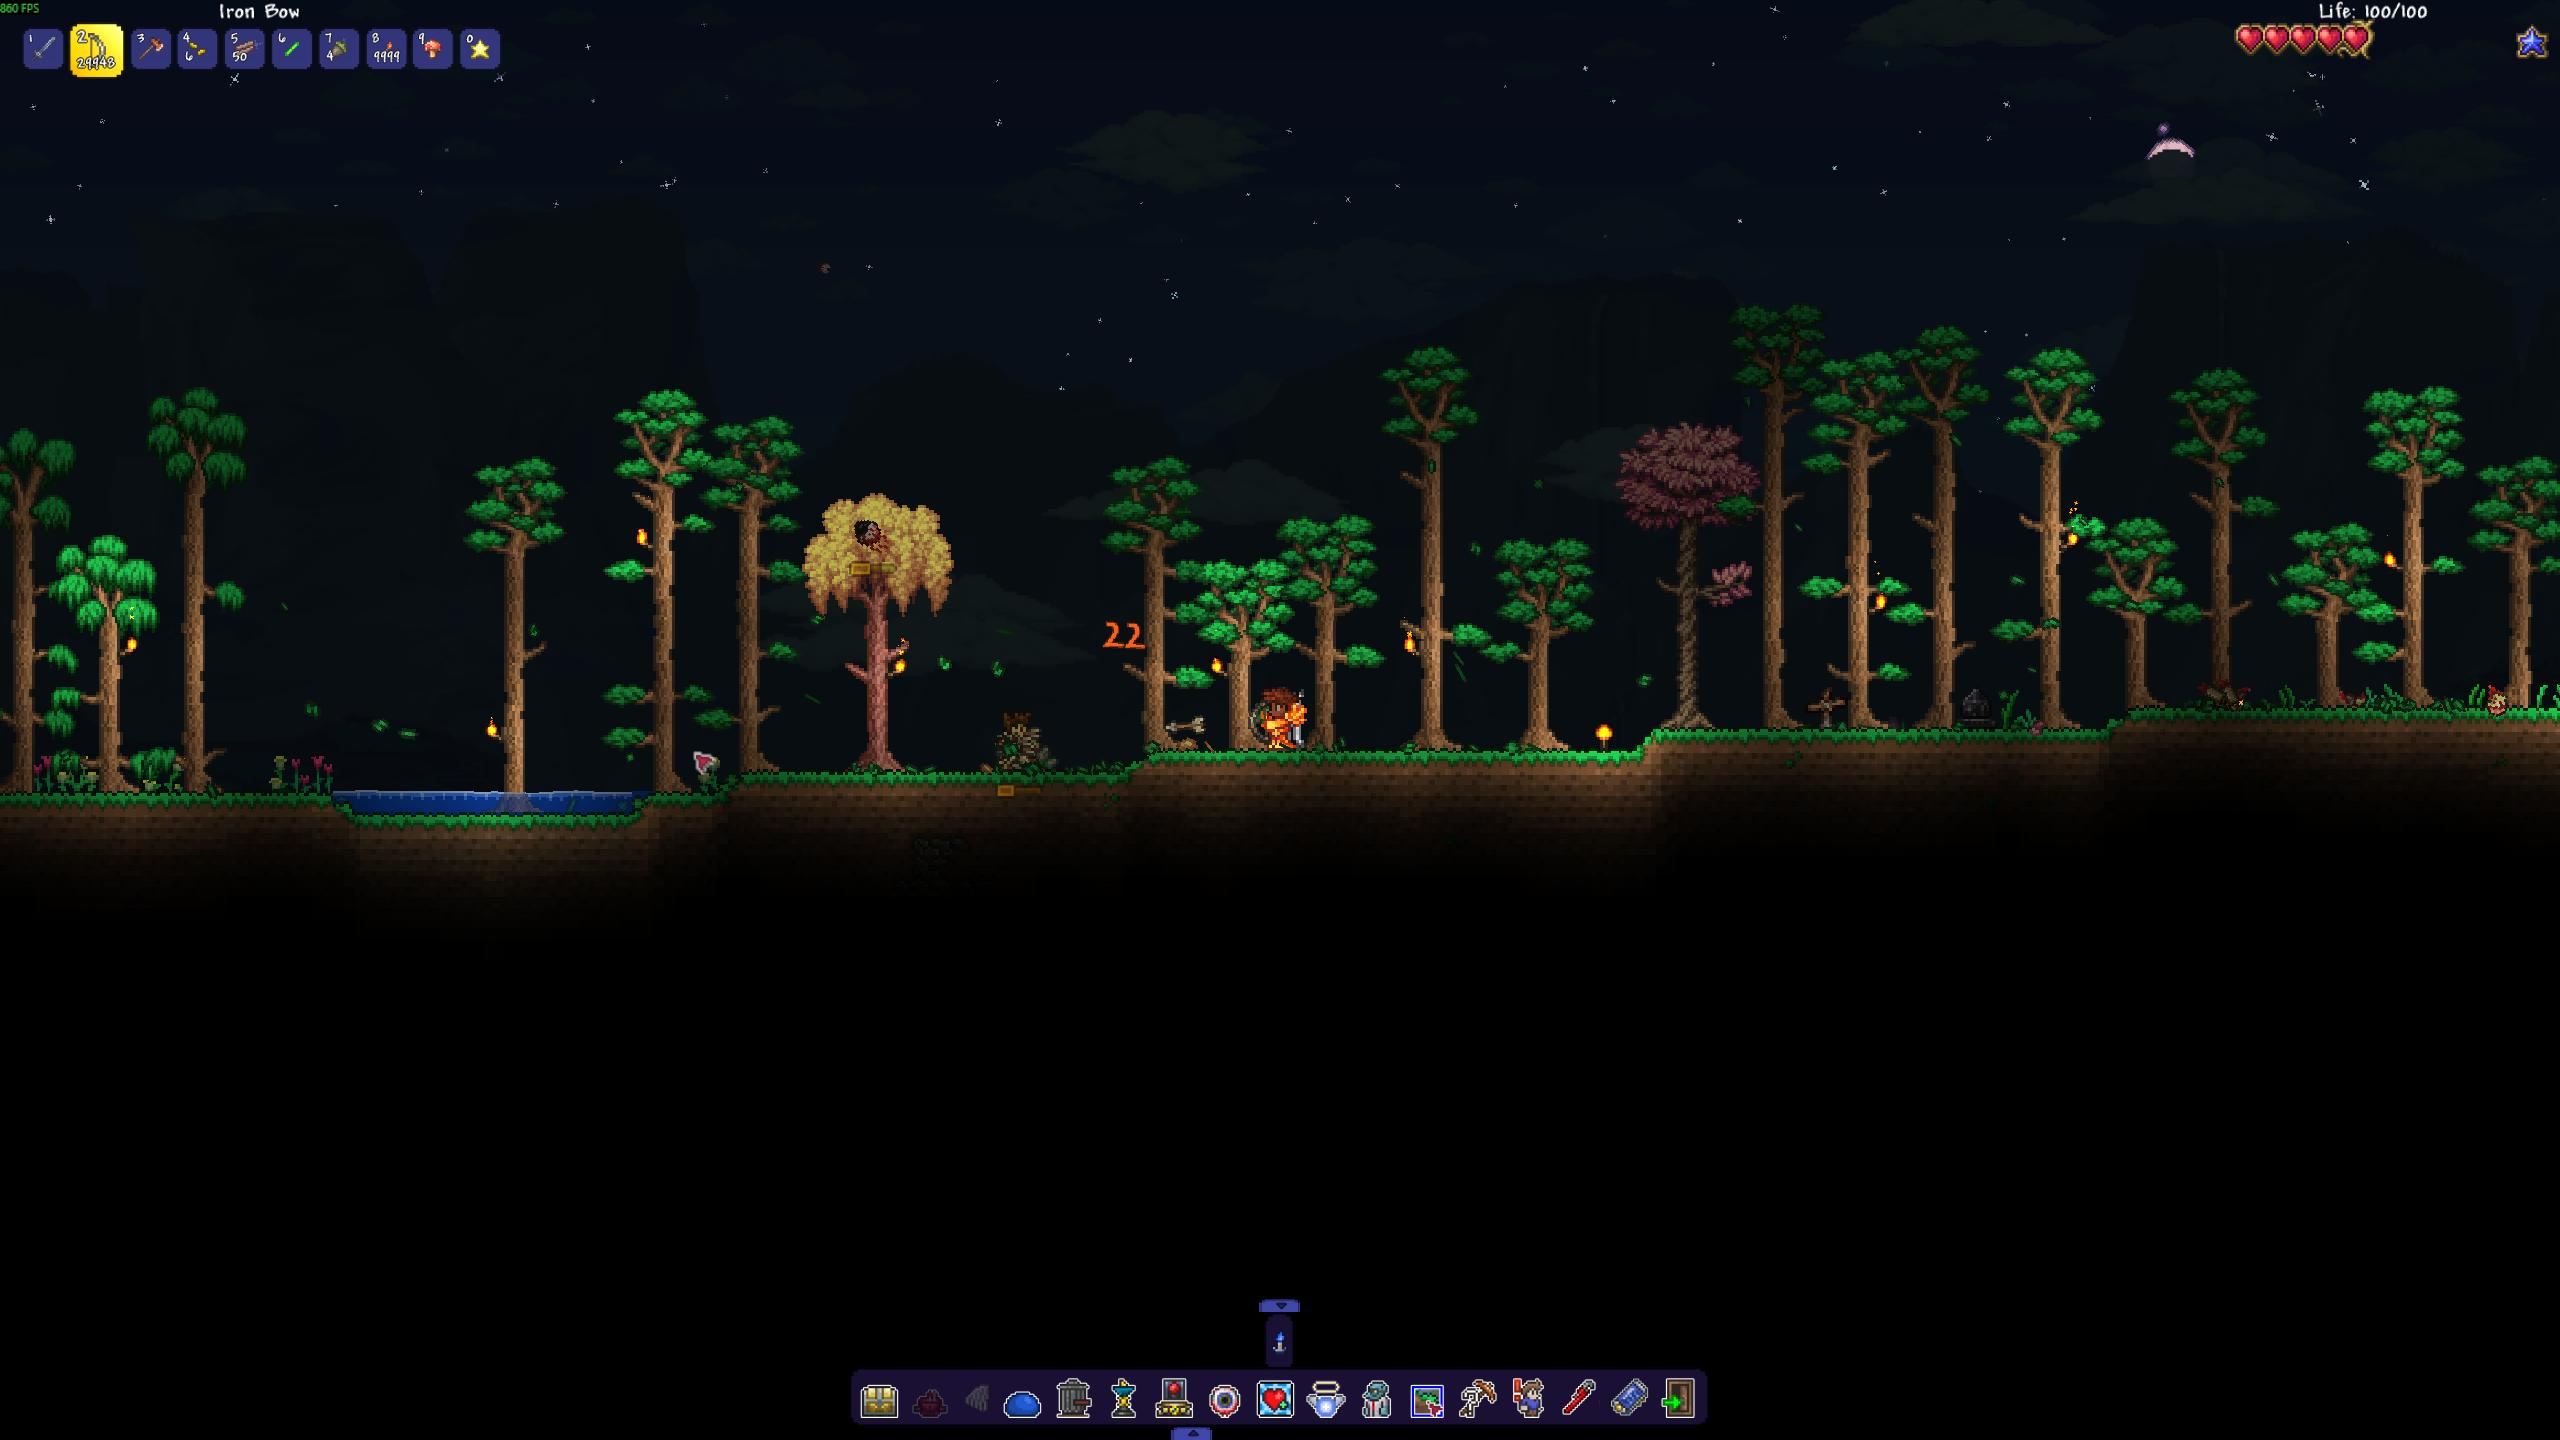Demon Eye: (851, 512, 897, 564)
Zombie: (990, 707, 1046, 774)
